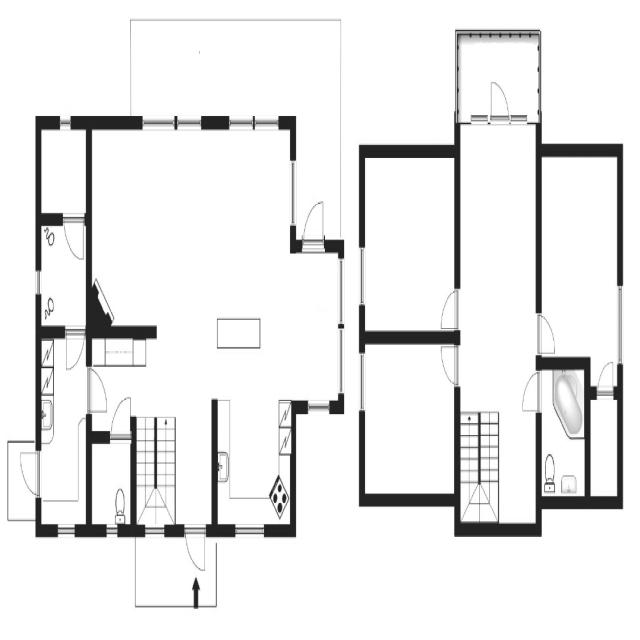door: (91, 371, 123, 431), (84, 362, 112, 422), (108, 388, 136, 446), (300, 196, 328, 251), (16, 442, 43, 498), (62, 208, 88, 266), (182, 519, 209, 574), (61, 323, 87, 379), (486, 72, 512, 127), (533, 306, 559, 360), (518, 367, 543, 418), (437, 284, 461, 330), (439, 341, 460, 386), (596, 356, 615, 401)
window: (89, 430, 133, 535), (139, 104, 207, 135), (334, 248, 347, 406), (226, 105, 284, 136), (287, 149, 301, 239), (614, 275, 626, 372), (230, 516, 270, 543), (53, 516, 80, 546), (304, 392, 334, 418), (357, 240, 367, 312), (357, 346, 367, 416), (142, 517, 168, 543), (453, 48, 462, 121), (101, 516, 121, 545), (57, 111, 76, 135), (32, 265, 45, 300), (509, 109, 531, 128)
zone: (89, 117, 292, 328), (538, 144, 621, 373), (361, 148, 459, 336), (212, 328, 295, 532), (361, 333, 457, 498), (38, 330, 87, 538), (540, 364, 587, 501), (36, 216, 90, 331), (36, 120, 90, 218), (88, 431, 134, 530), (588, 392, 620, 502)
